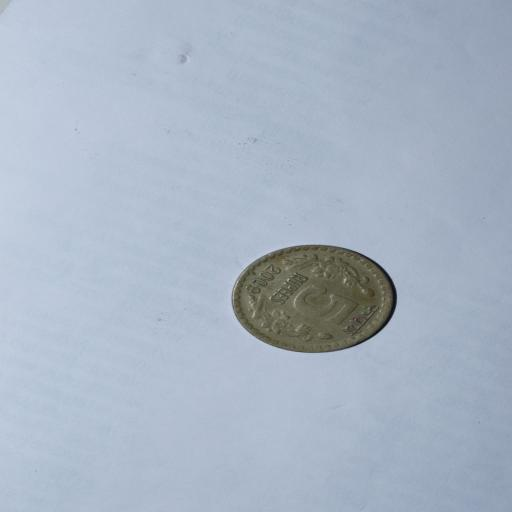rupee5: (226, 241, 397, 353)
